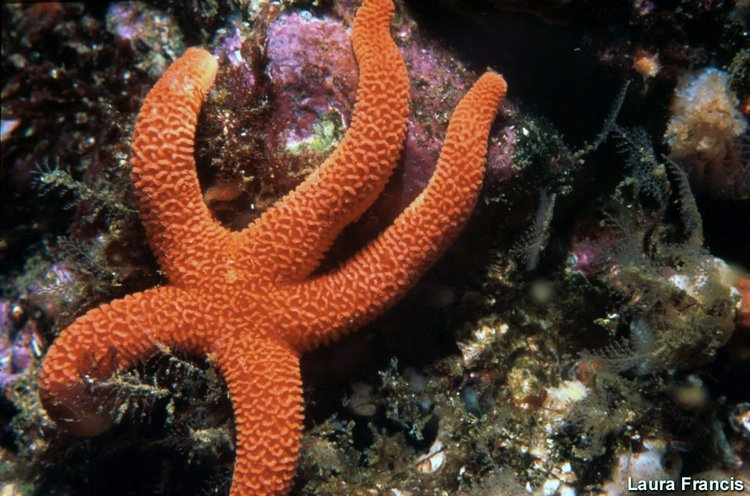starfish: (58, 36, 482, 485)
